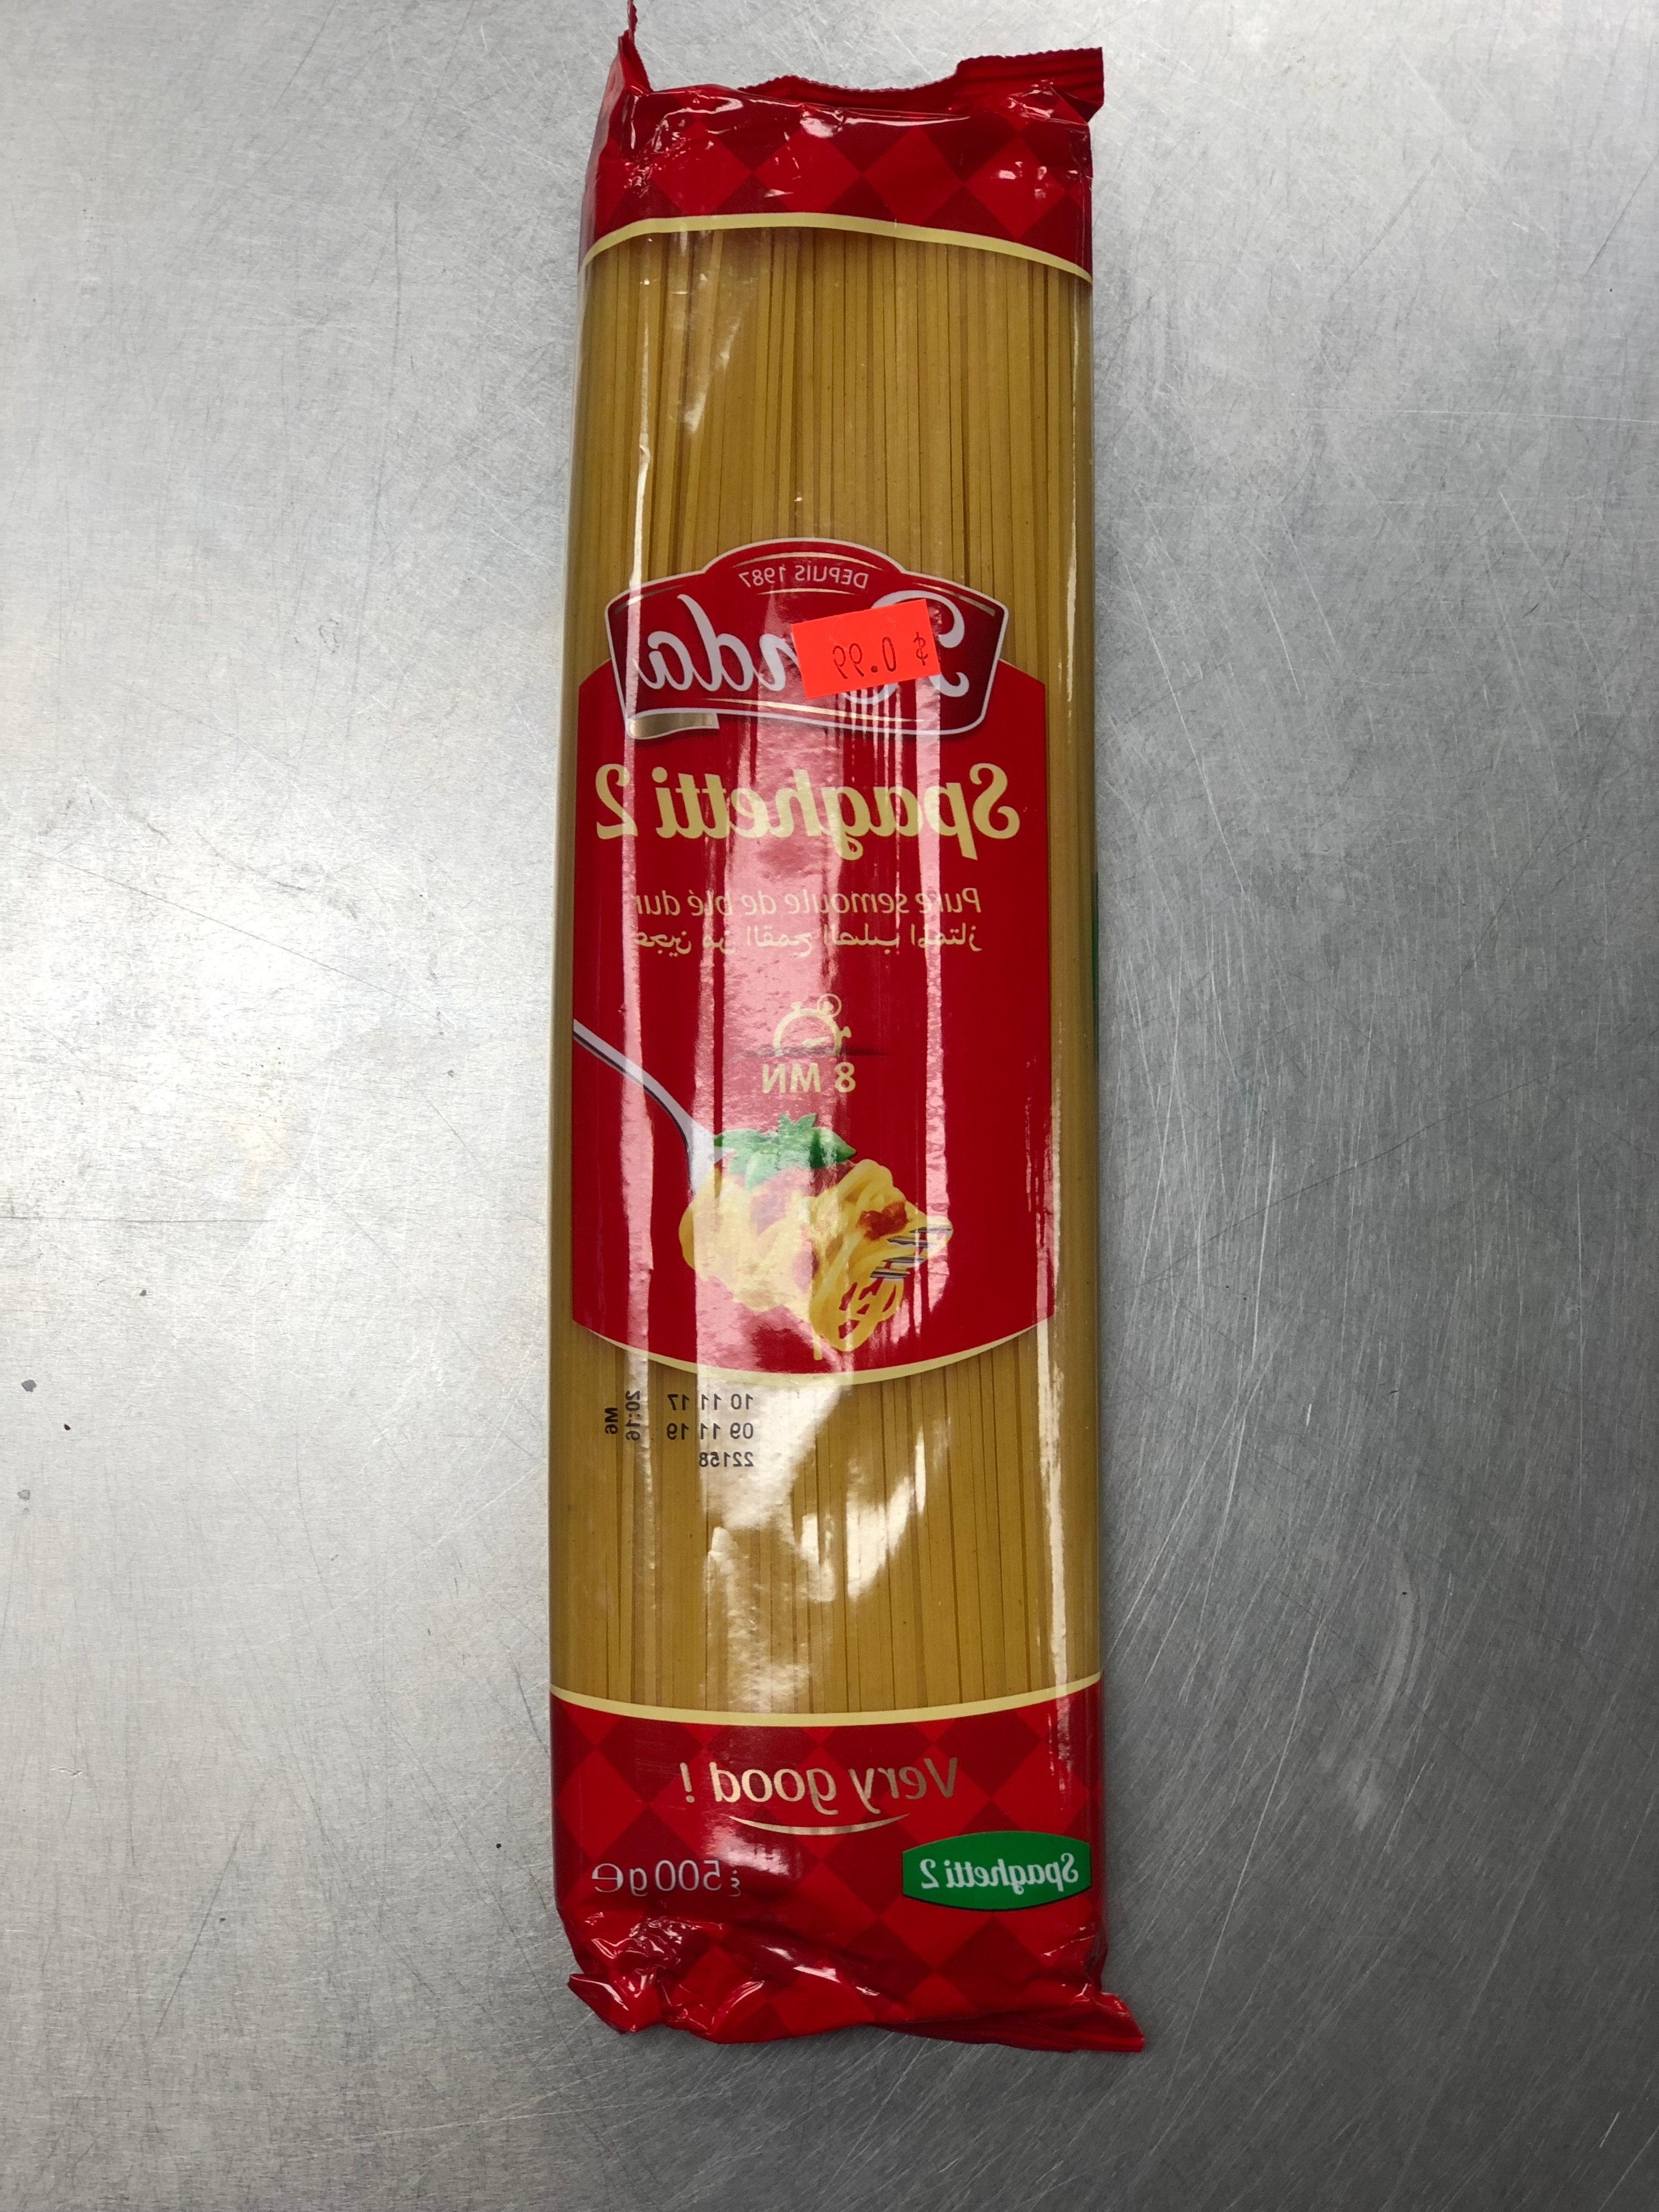Spaghetti: (1112, 31, 1368, 1036)
